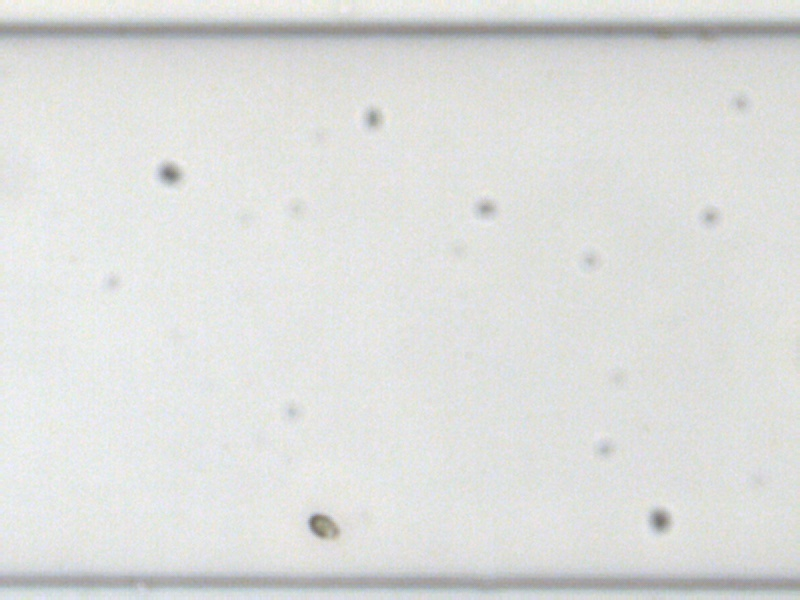Dunaliella salina: (305, 511, 339, 540)
